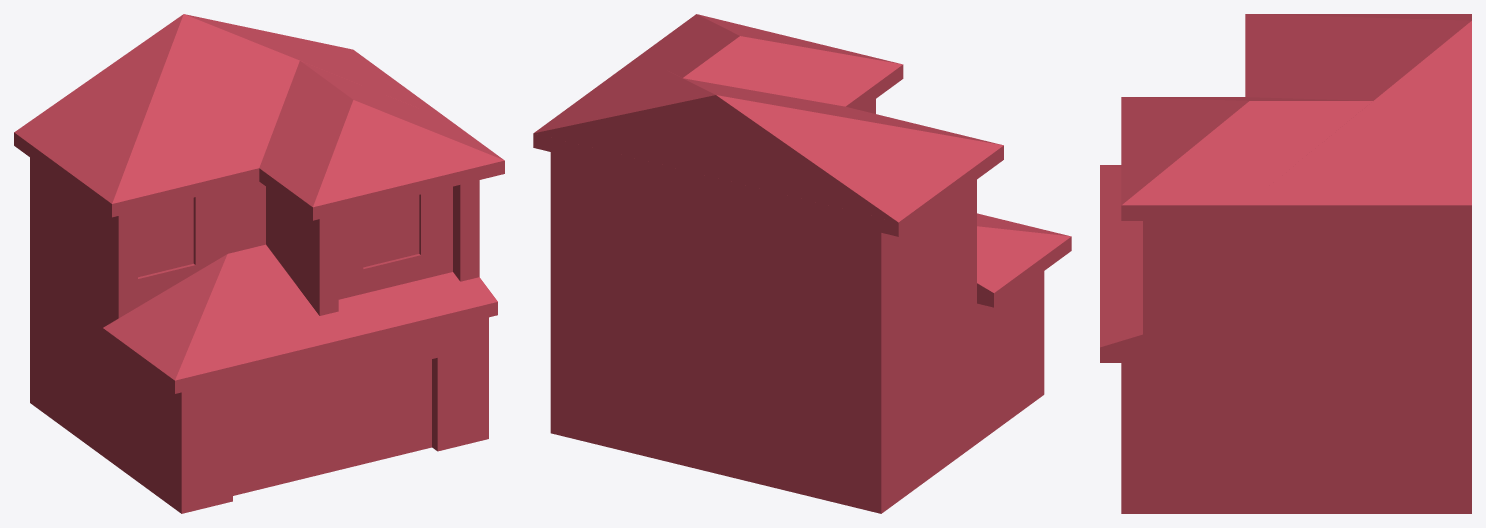
File: house-front.gltf
The picture shows the model from 3 angles, left to right: view 1: azimuth 30°, elevation 25°; view 2: azimuth 150°, elevation 25°; view 3: azimuth 270°, elevation 25°; orthographic projection. The views are drawn at different scales.
Parts seen in each view (by area): view 1: Mesh_Mesh_head_geo001_lambert2SG001; view 2: Mesh_Mesh_head_geo001_lambert2SG001; view 3: Mesh_Mesh_head_geo001_lambert2SG001.
Part boxes in pixels (x1=…): Mesh_Mesh_head_geo001_lambert2SG001: x1=14, y1=14, x2=504, y2=513; Mesh_Mesh_head_geo001_lambert2SG001: x1=533, y1=14, x2=1071, y2=513; Mesh_Mesh_head_geo001_lambert2SG001: x1=1100, y1=14, x2=1471, y2=513.
Bounding box in the file's own units: 106 × 105 × 87.
